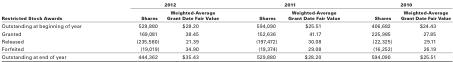table: (0, 1, 450, 59)
table column: (0, 1, 108, 59), (162, 1, 236, 59), (281, 1, 354, 59), (395, 1, 450, 59), (108, 1, 162, 59), (236, 1, 281, 59), (354, 1, 395, 59)
table column header: (0, 1, 450, 21)
table row: (0, 7, 450, 21), (0, 21, 450, 29), (0, 36, 450, 44), (0, 44, 450, 52), (0, 29, 450, 36), (0, 52, 450, 59), (0, 1, 450, 7)
table spanning cell: (0, 1, 108, 21), (108, 1, 236, 7), (236, 1, 354, 7), (354, 1, 450, 7)
